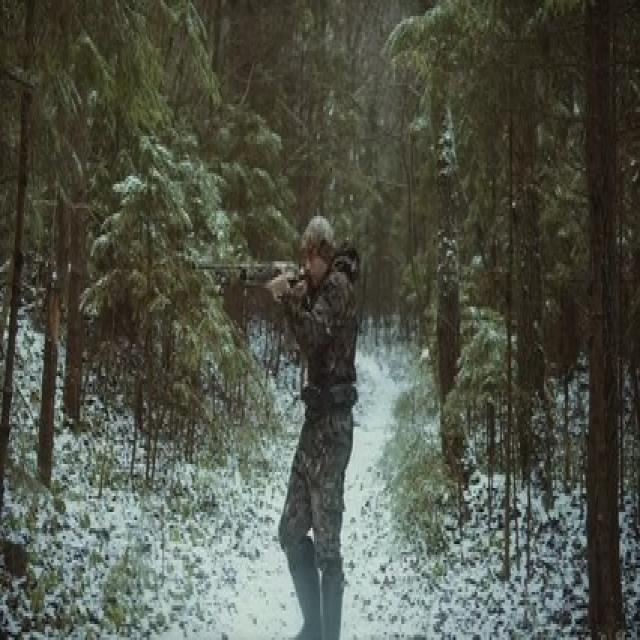Gun_Holder: (189, 254, 312, 298)
Person: (279, 212, 357, 640)
